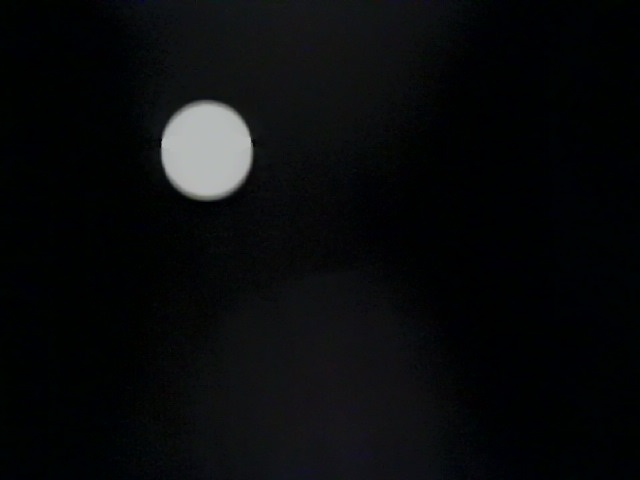YHLJ: (362, 325, 491, 392)
